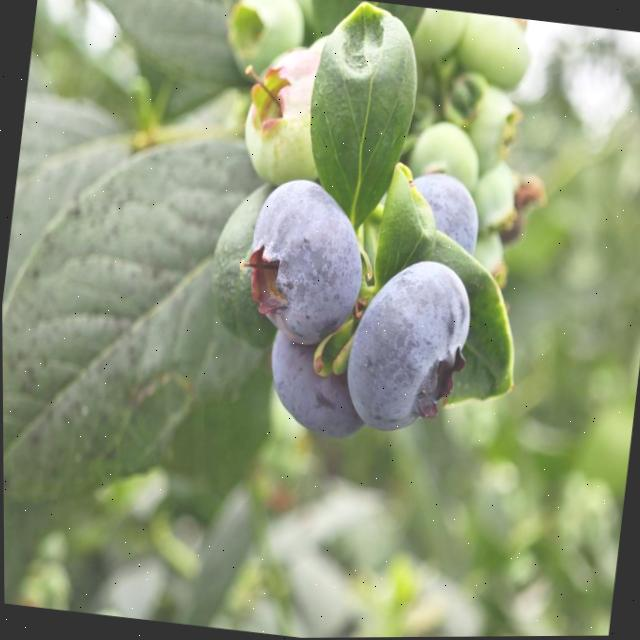RipeBlueBerry: (341, 251, 476, 442), (239, 174, 375, 349), (260, 320, 377, 447)
UnripeBlueBerry: (234, 45, 351, 192)
